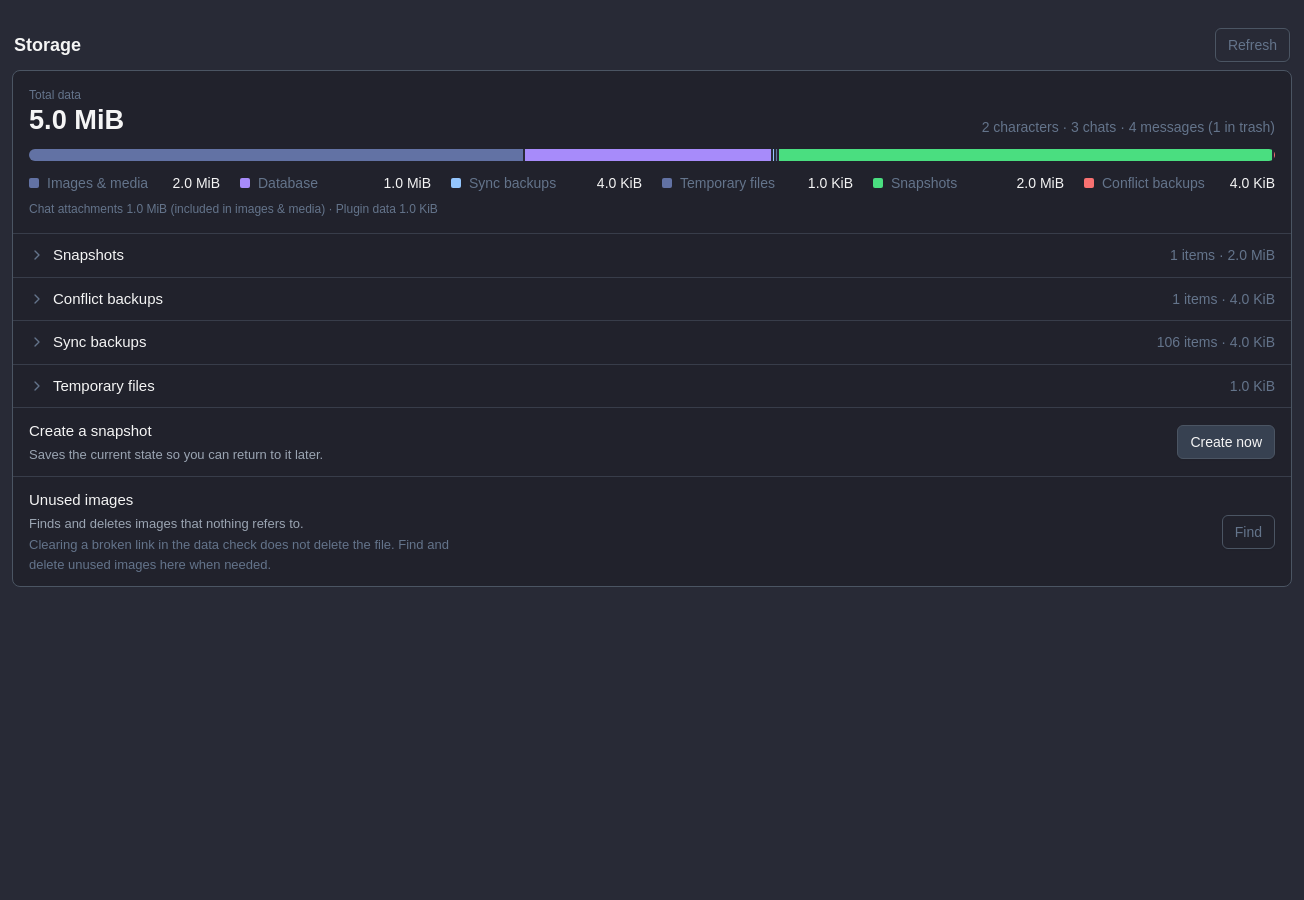
RisuNestStorageDashboard › lists what the cleanup found and why each file stayed
The width and height of the screenshot is (1304, 900).
Click the button "Find".
click(1248, 532)  # box [1222,514,1275,548]
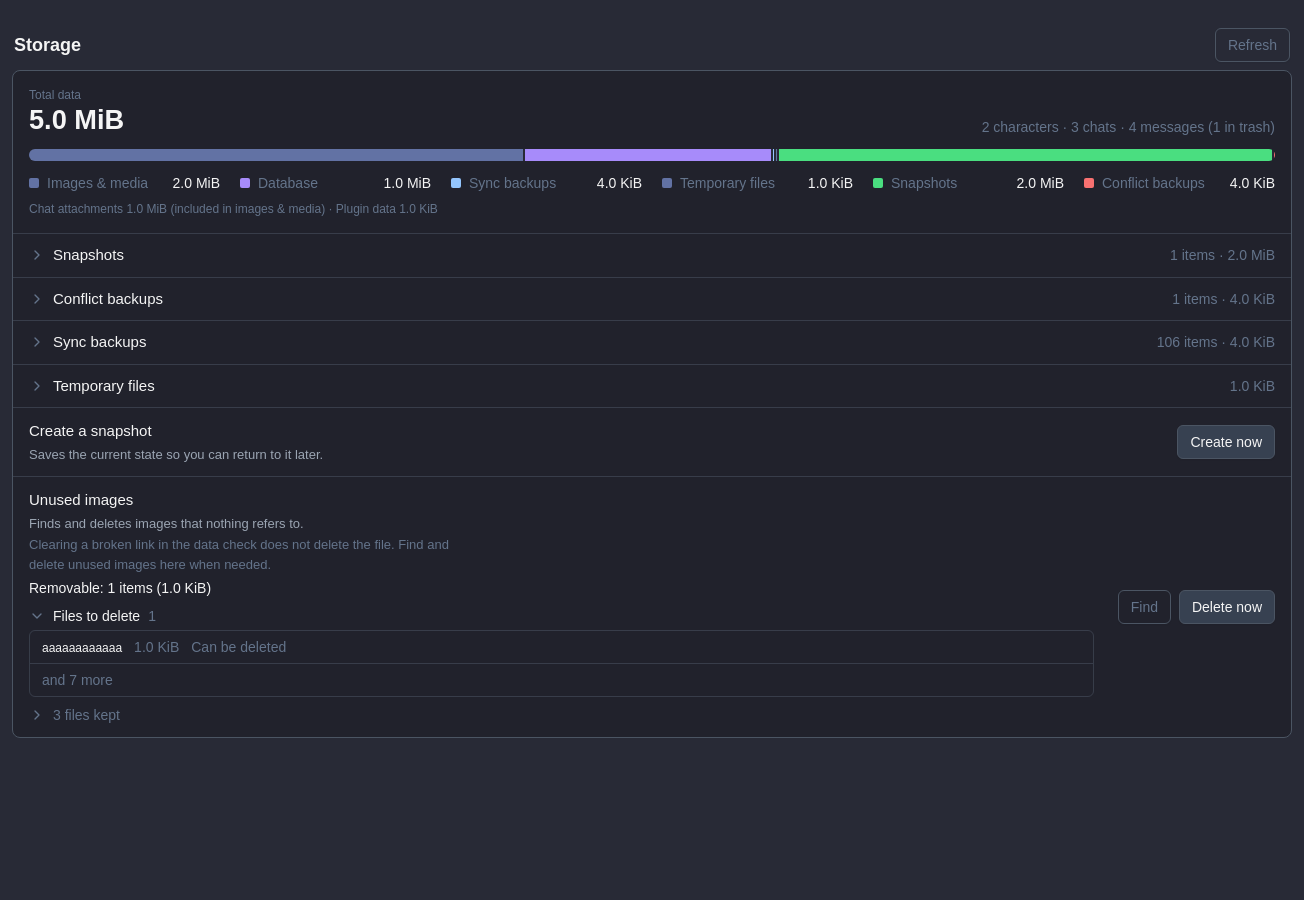
expect the element showing "aaaaaaaaaaaa 1.0 KiB Can be deleted" is shown: met, box [30,631,1093,664]
expect the element that starts with "Files to delete" shows "and 7 more": met, box [42,672,113,688]
expect the element showing "3 files kept" is shown: met, box [29,707,120,723]
